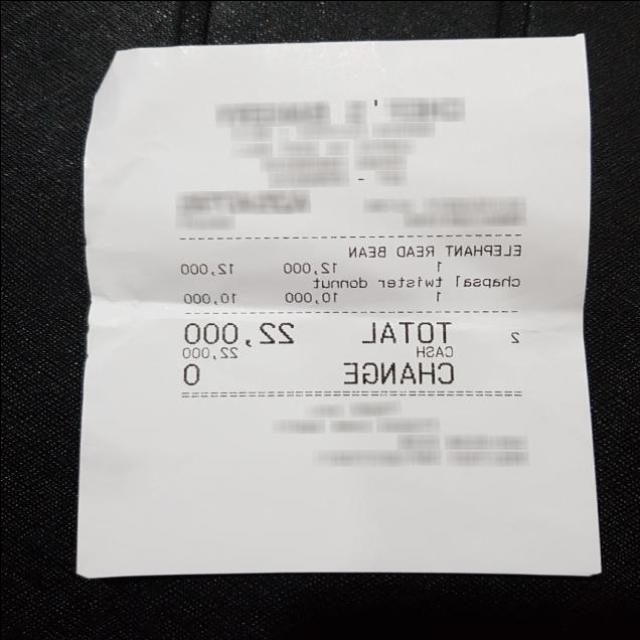kertas: (65, 34, 598, 585)
